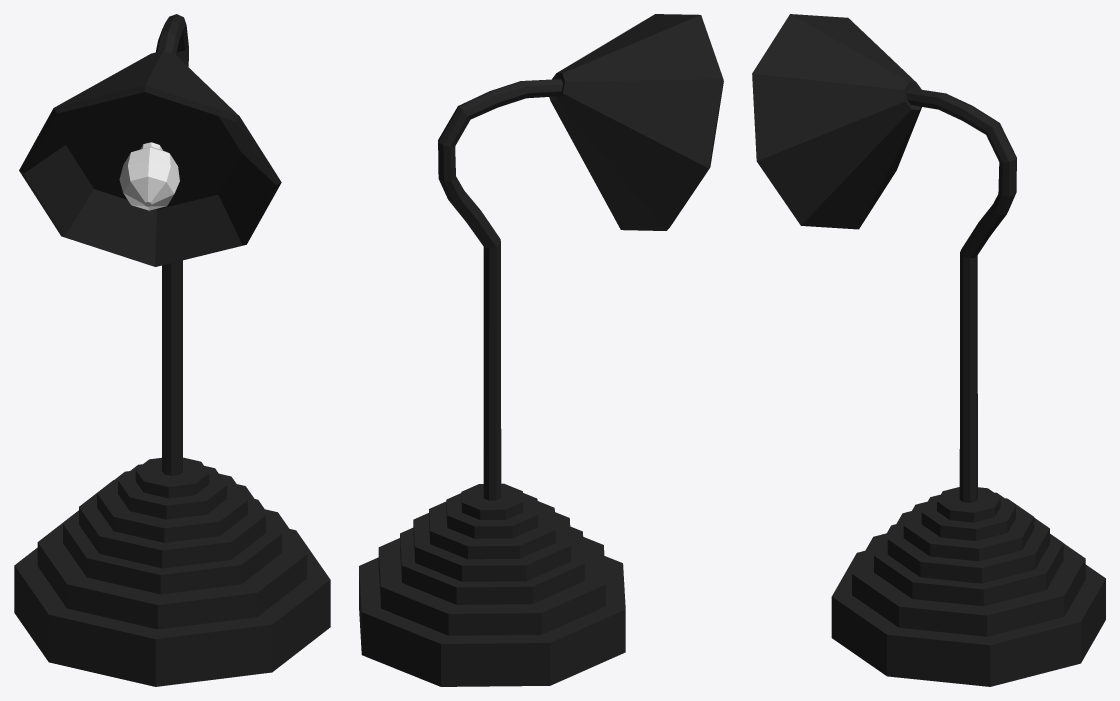
File: Lamp-3.fbx
3 views of the same model, side by side, from view 1: azimuth 30°, elevation 25°; view 2: azimuth 150°, elevation 25°; view 3: azimuth 270°, elevation 25° (orthographic). The views are drawn at different scales.
Visible parts, largest first — view 1: Lamp-3; view 2: Lamp-3; view 3: Lamp-3.
Part boxes in pixels (box(x1,y1,x2,y2)): Lamp-3: box(14, 14, 330, 686); Lamp-3: box(359, 14, 723, 686); Lamp-3: box(752, 14, 1105, 686).
Size of the model in its own units: 0.2397 by 0.4409 by 0.2525.
